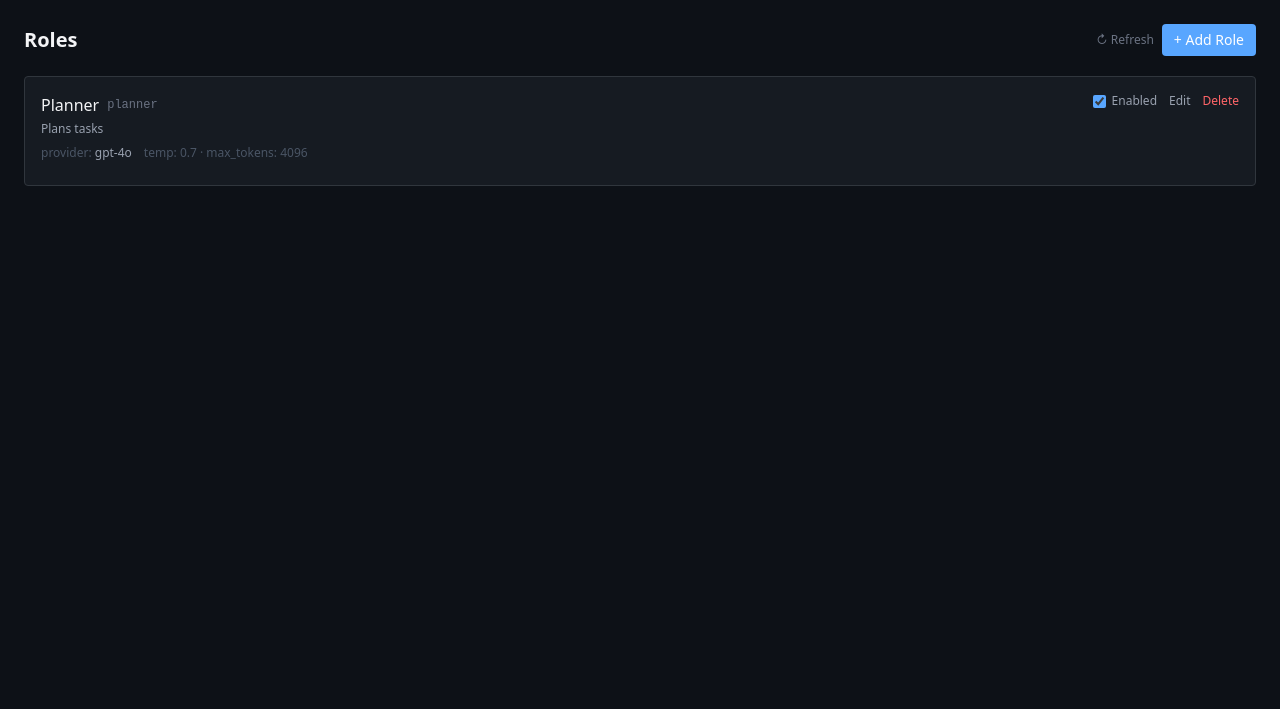
Test: Roles — provider dropdown filtering › shows filtered hint when compatible providers exist
Click the button "+ Add Role".
click(1209, 40)  # box [1162,24,1256,56]
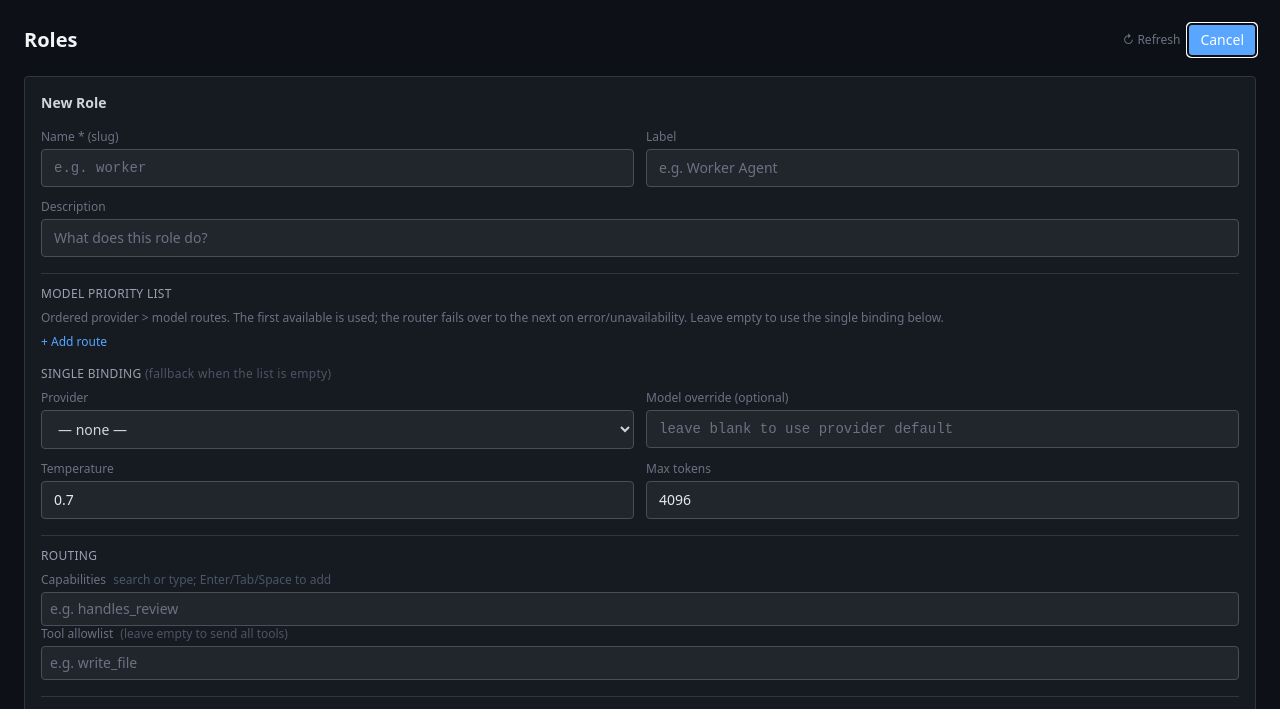
Now the field with placeholder "e.g. worker" is shown
Type "executor" into the field with placeholder "e.g. worker".
click(338, 168); type("executor")  # box [41,149,634,187]
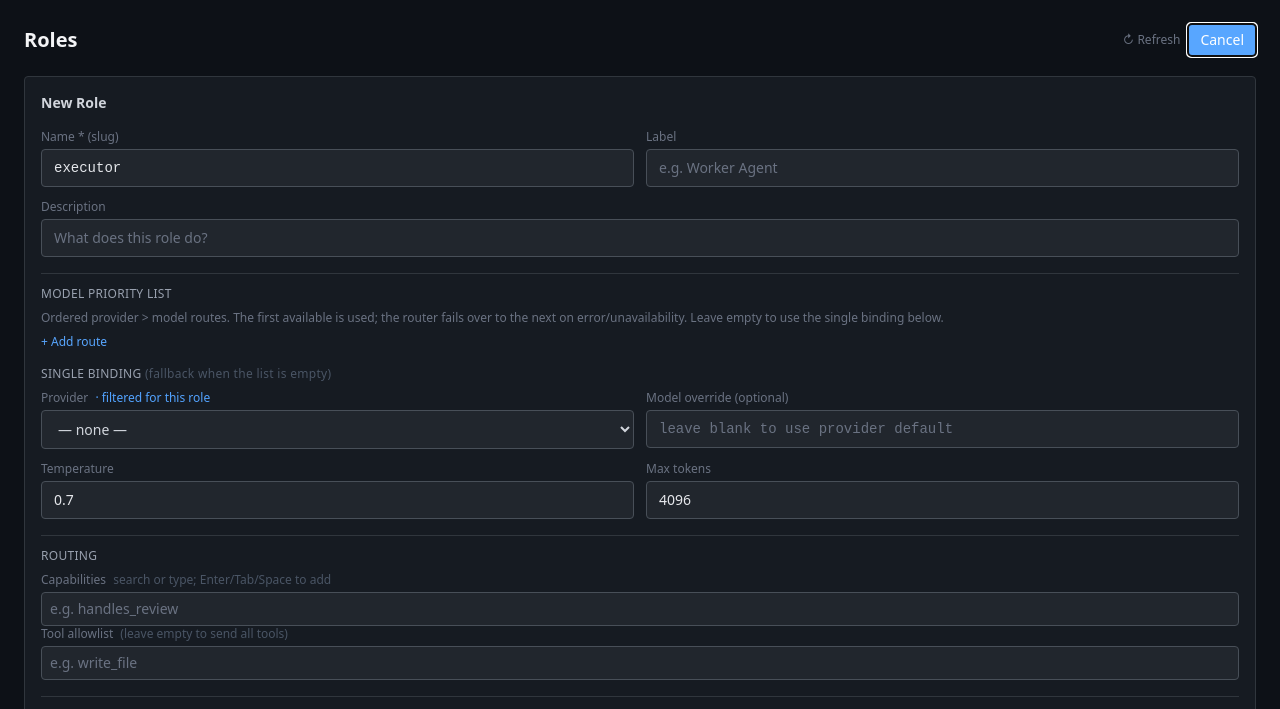
Now the text "· filtered for this role" is shown, box [95,389,210,406]
